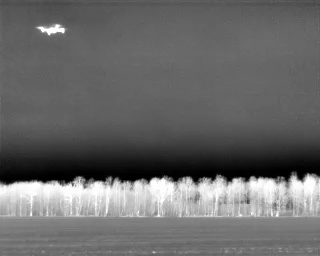DRONE: (33, 19, 71, 41)
